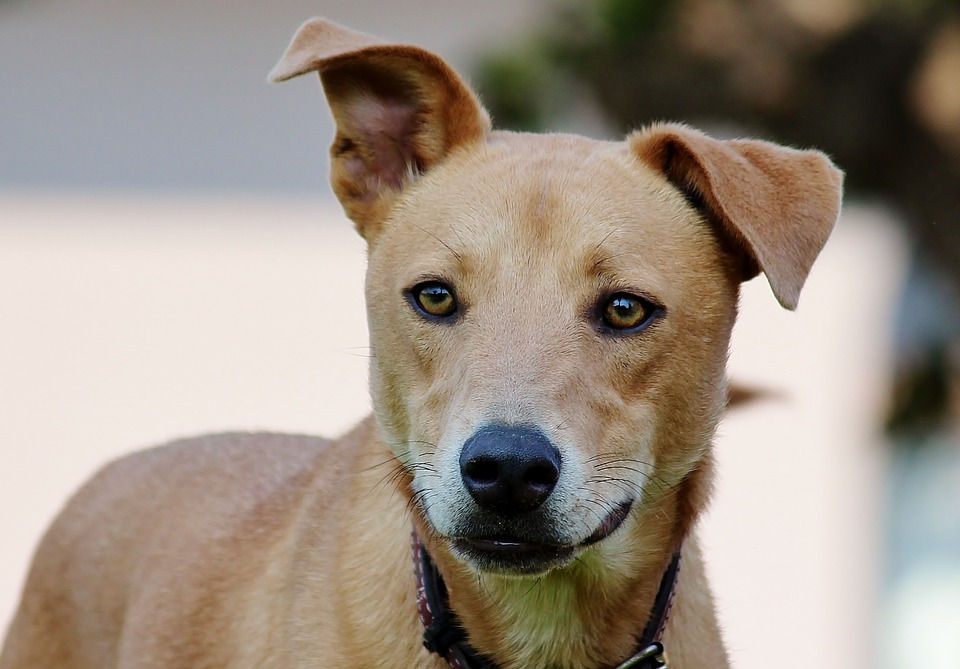dog: (0, 0, 960, 669)
